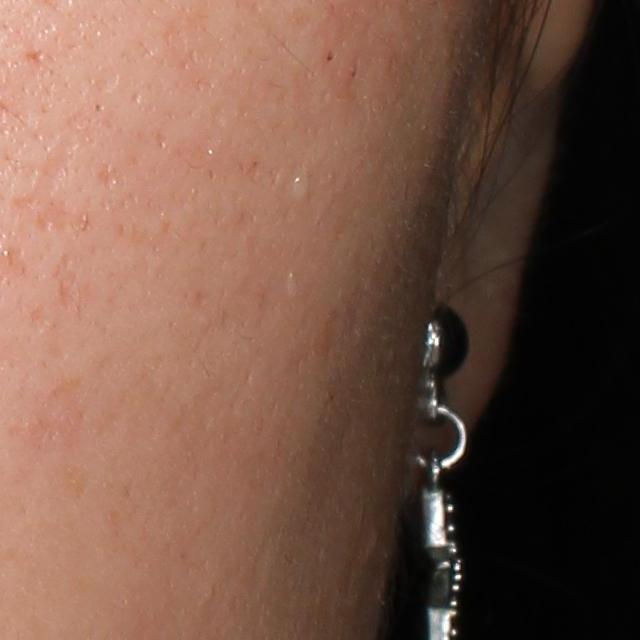atrophic_scar: (11, 109, 93, 240), (50, 249, 83, 315), (102, 161, 123, 186)
